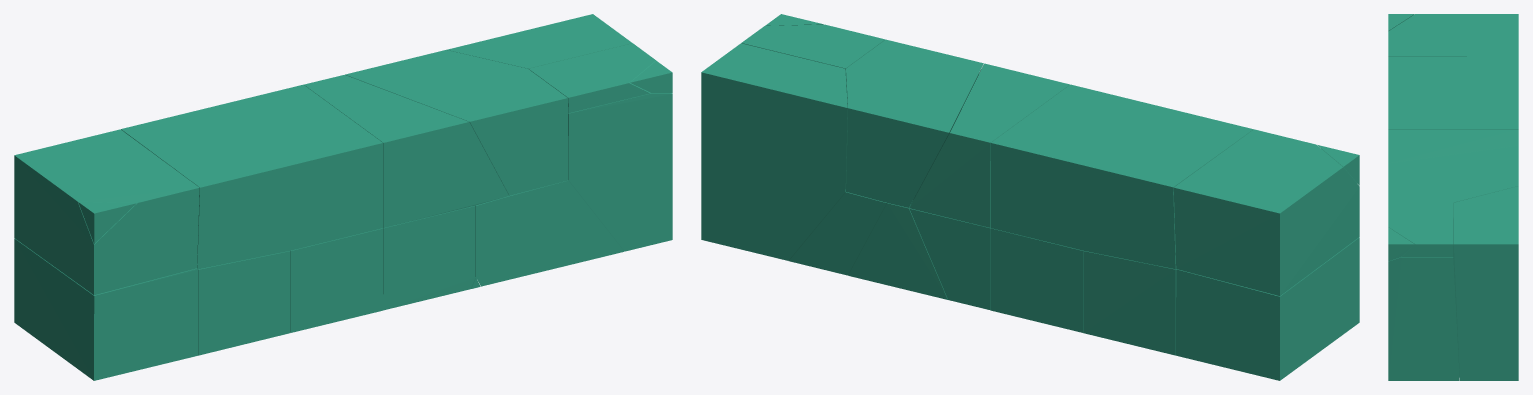
The model's file is Mueble_Salón_Roto.fbx.
The picture shows the model from 3 angles, left to right: view 1: azimuth 30°, elevation 25°; view 2: azimuth 150°, elevation 25°; view 3: azimuth 270°, elevation 25°; orthographic projection. The views are drawn at different scales.
Visible parts, largest first — view 1: MuebleSalon_cell.002, MuebleSalon_cell.010, MuebleSalon_cell.004, MuebleSalon_cell.012, MuebleSalon_cell.008, MuebleSalon_cell.009, MuebleSalon_cell.014, MuebleSalon_cell.013, MuebleSalon_cell.003, MuebleSalon_cell.011, MuebleSalon_cell.006, MuebleSalon_cell.001 (+2 smaller); view 2: MuebleSalon_cell.002, MuebleSalon_cell.006, MuebleSalon_cell.010, MuebleSalon_cell.004, MuebleSalon_cell.012, MuebleSalon_cell.008, MuebleSalon_cell.013, MuebleSalon_cell.003, MuebleSalon_cell.011, MuebleSalon_cell, MuebleSalon_cell.014, MuebleSalon_cell.001 (+1 smaller); view 3: MuebleSalon_cell.006, MuebleSalon_cell.002, MuebleSalon_cell.009, MuebleSalon_cell.012, MuebleSalon_cell.010, MuebleSalon_cell.008, MuebleSalon_cell.001, MuebleSalon_cell.005, MuebleSalon_cell.007.
Boxes of the visible parts, left/top/right/bottom form: MuebleSalon_cell.002: left=121, top=84, right=383, bottom=269; MuebleSalon_cell.010: left=14, top=129, right=199, bottom=295; MuebleSalon_cell.004: left=14, top=238, right=197, bottom=380; MuebleSalon_cell.012: left=345, top=50, right=568, bottom=195; MuebleSalon_cell.008: left=304, top=75, right=508, bottom=227; MuebleSalon_cell.009: left=568, top=93, right=672, bottom=251; MuebleSalon_cell.014: left=475, top=180, right=624, bottom=286; MuebleSalon_cell.013: left=197, top=251, right=290, bottom=355; MuebleSalon_cell.003: left=290, top=228, right=383, bottom=332; MuebleSalon_cell.011: left=383, top=205, right=475, bottom=310; MuebleSalon_cell.006: left=446, top=14, right=632, bottom=68; MuebleSalon_cell.001: left=529, top=43, right=656, bottom=112; MuebleSalon_cell.002: left=991, top=84, right=1253, bottom=269; MuebleSalon_cell.006: left=701, top=43, right=847, bottom=260; MuebleSalon_cell.010: left=1173, top=129, right=1359, bottom=295; MuebleSalon_cell.004: left=1176, top=237, right=1359, bottom=380; MuebleSalon_cell.012: left=845, top=39, right=983, bottom=207; MuebleSalon_cell.008: left=909, top=63, right=1069, bottom=227; MuebleSalon_cell.013: left=1083, top=251, right=1176, bottom=355; MuebleSalon_cell.003: left=990, top=228, right=1083, bottom=332; MuebleSalon_cell.011: left=909, top=208, right=990, bottom=310; MuebleSalon_cell: left=848, top=203, right=947, bottom=299; MuebleSalon_cell.014: left=788, top=189, right=886, bottom=275; MuebleSalon_cell.001: left=741, top=24, right=885, bottom=72; MuebleSalon_cell.006: left=1453, top=186, right=1518, bottom=380; MuebleSalon_cell.002: left=1388, top=56, right=1518, bottom=129; MuebleSalon_cell.009: left=1388, top=219, right=1459, bottom=380; MuebleSalon_cell.012: left=1388, top=145, right=1518, bottom=218; MuebleSalon_cell.010: left=1388, top=14, right=1518, bottom=56; MuebleSalon_cell.008: left=1388, top=129, right=1518, bottom=163; MuebleSalon_cell.001: left=1388, top=202, right=1453, bottom=256; MuebleSalon_cell.005: left=1388, top=227, right=1414, bottom=261; MuebleSalon_cell.007: left=1388, top=14, right=1414, bottom=30.
Bounding box in the file's own units: 306 × 84.78 × 73.2.
